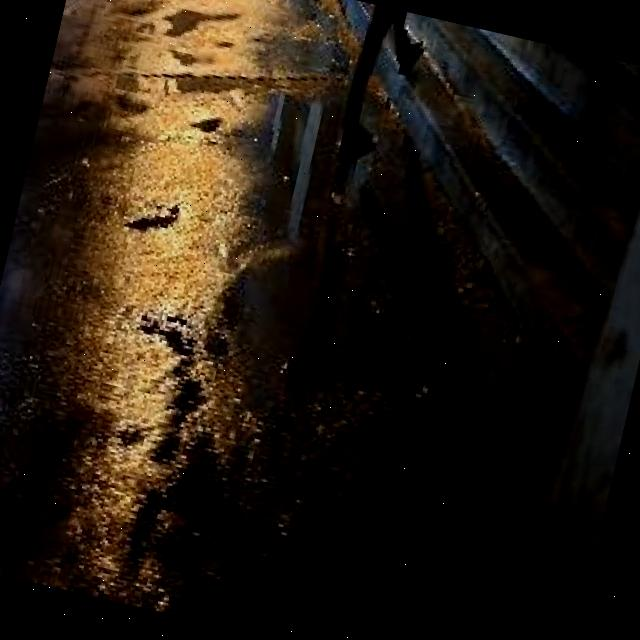stagnation: (88, 284, 246, 482), (89, 0, 255, 76), (109, 178, 194, 258), (177, 96, 227, 152)
